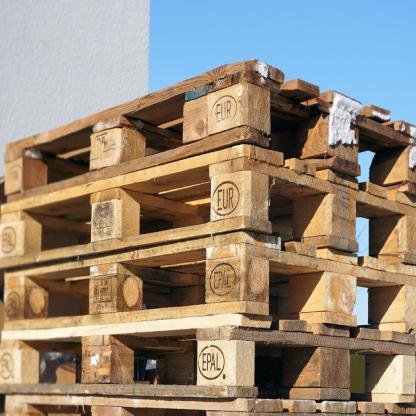BoxFace: (3, 64, 413, 202), (1, 157, 416, 264), (1, 233, 414, 338), (1, 323, 415, 395)
